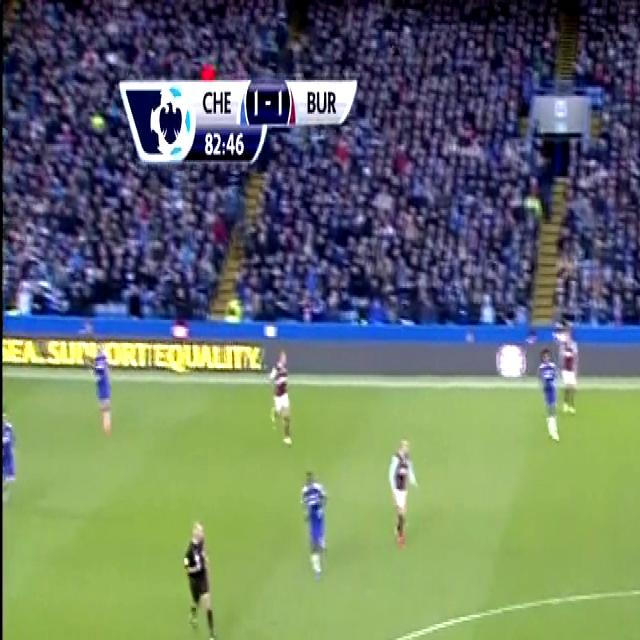referee: (179, 505, 223, 640)
soccer-player: (378, 423, 421, 555), (294, 463, 336, 590), (266, 343, 299, 455), (534, 342, 567, 453), (90, 338, 122, 449), (556, 313, 584, 422), (1, 398, 18, 532)
